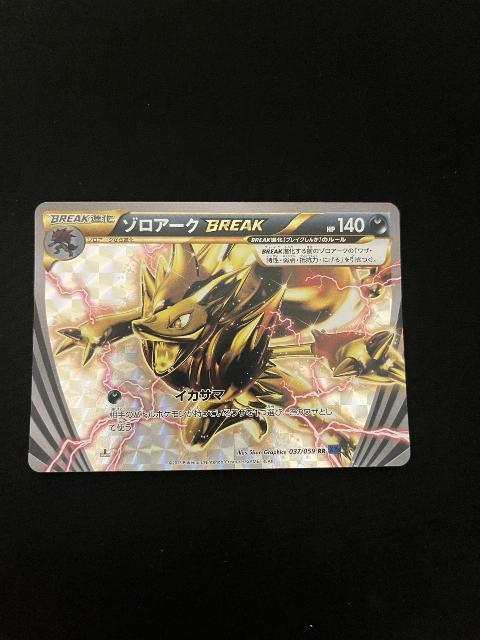Card: (25, 196, 420, 478)
Name: (115, 212, 272, 240)
